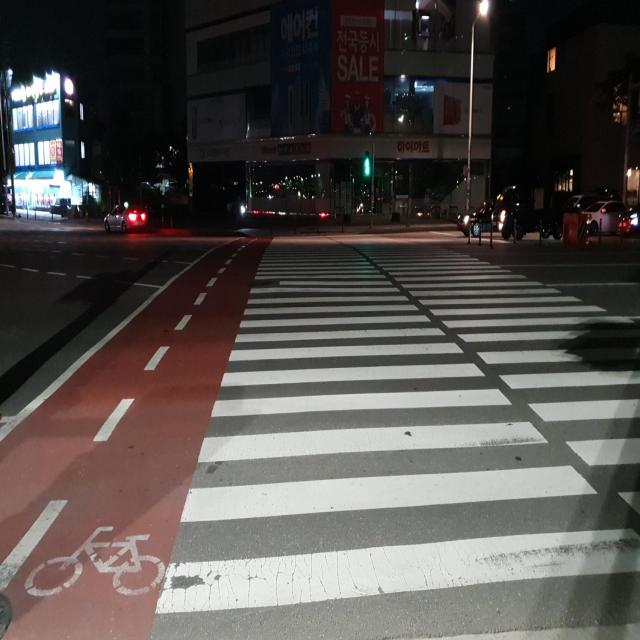초록불: (365, 150, 371, 179)
횡단보도: (152, 232, 640, 640)
